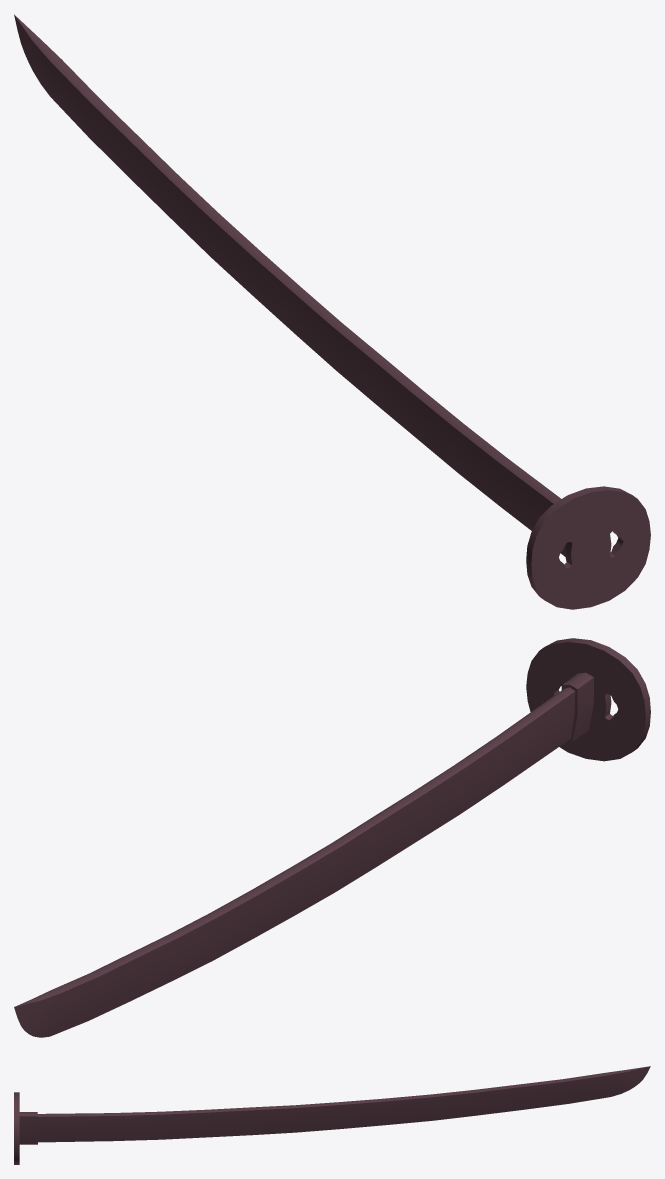
File: etc_musashi_arm_eff_aura_musashi_katana.glb
The picture shows the model from 3 angles, top to bottom: view 1: azimuth 30°, elevation 25°; view 2: azimuth 150°, elevation 25°; view 3: azimuth 270°, elevation 25°; orthographic projection. The views are drawn at different scales.
Size of the model in its own units: 0.3105 by 0.4229 by 2.6.
